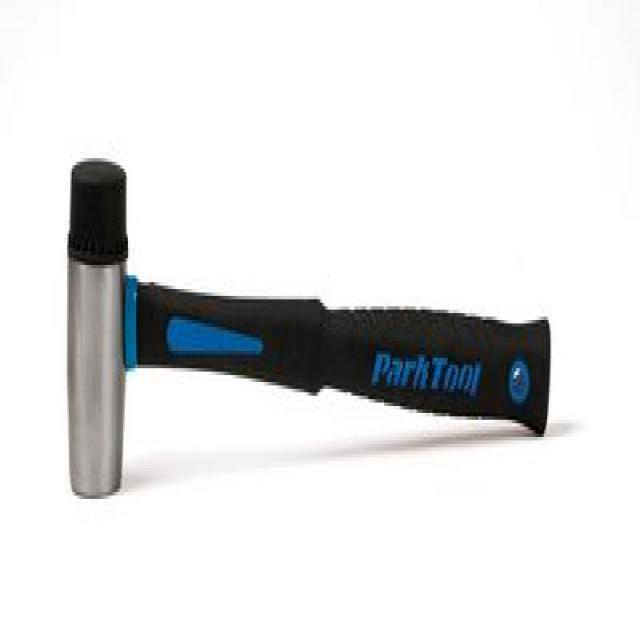hammer: (51, 132, 556, 542)
